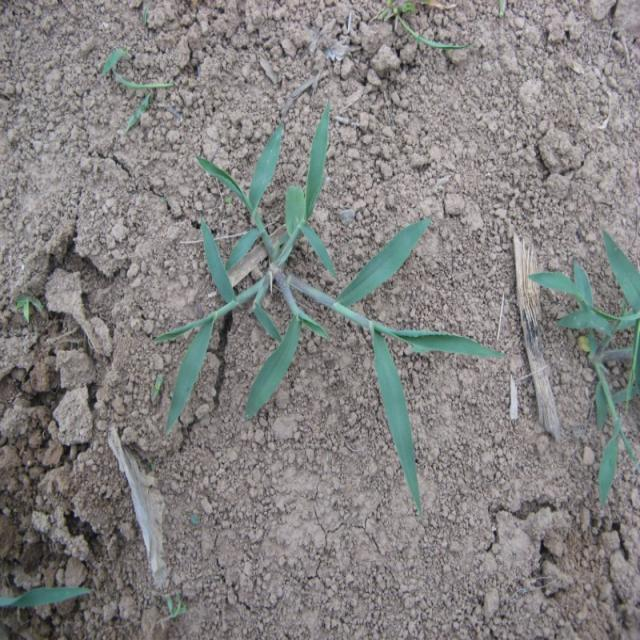bg: (148, 115, 503, 513)
